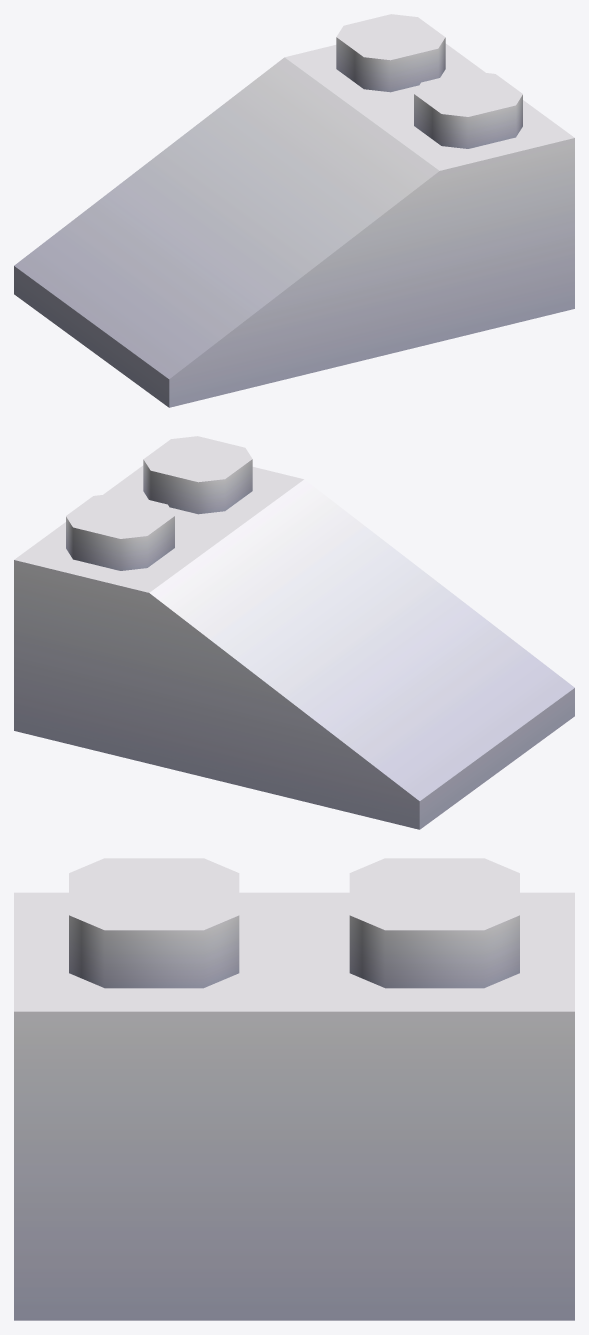
Rendered from kenney-brick-bevel-lq-brick-slope-3-x-2.glb.
3 views of the same model, one above another, from view 1: azimuth 30°, elevation 25°; view 2: azimuth 150°, elevation 25°; view 3: azimuth 270°, elevation 25° (orthographic). The views are drawn at different scales.
Parts seen in each view (by area): view 1: bevel-lq-brick-slope-3x2; view 2: bevel-lq-brick-slope-3x2; view 3: bevel-lq-brick-slope-3x2.
Boxes of the visible parts, bbox=[...] form: bevel-lq-brick-slope-3x2: bbox=[14, 14, 574, 407]; bevel-lq-brick-slope-3x2: bbox=[14, 436, 574, 829]; bevel-lq-brick-slope-3x2: bbox=[14, 858, 574, 1320].
Bounding box in the file's own units: 0.2385 × 0.114 × 0.158.
Materials: 1 (1 with a texture image).
